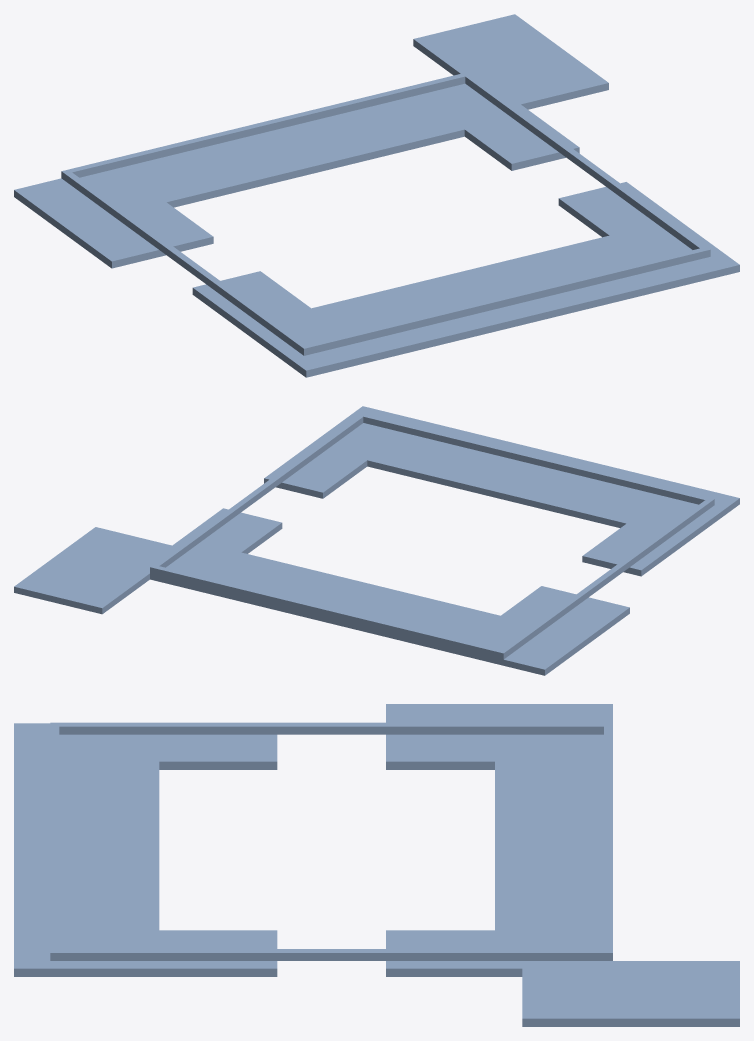
The model's file is Floor02_tops.fbx.
3 views of the same model, one above another, from view 1: azimuth 30°, elevation 25°; view 2: azimuth 150°, elevation 25°; view 3: azimuth 270°, elevation 25° (orthographic). The views are drawn at different scales.
Parts seen in each view (by area): view 1: polySurface23, polySurface18, polySurface19, polySurface726, Hallway50, walls85, walls84, walls86, walls83; view 2: polySurface23, polySurface18, polySurface19, polySurface726, Hallway50, walls84, walls85, walls86, walls83; view 3: polySurface19, polySurface23, polySurface18, polySurface726, Hallway50, walls86, walls83, walls85, walls84.
Part boxes in pixels (<box>): polySurface23: <box>14,131,315,268</box>; polySurface18: <box>192,271,522,377</box>; polySurface19: <box>461,182,739,324</box>; polySurface726: <box>269,76,579,172</box>; Hallway50: <box>413,14,608,109</box>; walls85: <box>300,248,710,355</box>; walls84: <box>68,72,471,177</box>; walls86: <box>61,169,310,355</box>; walls83: <box>462,72,710,258</box>; polySurface23: <box>327,584,629,675</box>; polySurface18: <box>497,452,739,576</box>; polySurface19: <box>264,406,550,498</box>; polySurface726: <box>138,508,370,622</box>; Hallway50: <box>14,527,176,614</box>; walls84: <box>150,566,500,657</box>; walls85: <box>360,413,714,505</box>; walls86: <box>497,498,714,659</box>; walls83: <box>150,413,366,574</box>; polySurface19: <box>14,846,277,976</box>; polySurface23: <box>386,704,612,845</box>; polySurface18: <box>14,723,277,845</box>; polySurface726: <box>386,846,612,976</box>; Hallway50: <box>522,961,739,1026</box>; walls86: <box>55,722,612,734</box>; walls83: <box>50,949,612,960</box>; walls85: <box>50,722,59,960</box>; walls84: <box>604,726,612,960</box>.
Bounding box in the file's own units: 4100 × 100 × 4000.
